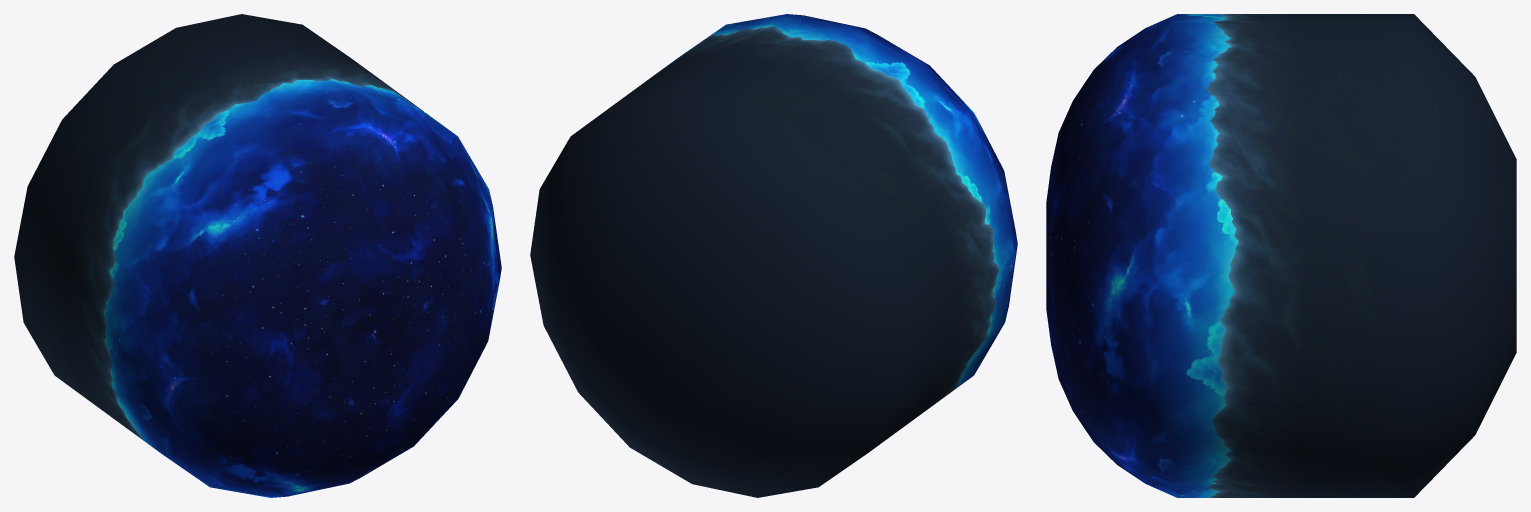
3 renders of one model, left to right at view 1: azimuth 30°, elevation 25°; view 2: azimuth 150°, elevation 25°; view 3: azimuth 270°, elevation 25°, orthographic. The views are drawn at different scales.
Visible parts, largest first — view 1: side01; view 2: side01; view 3: side01.
Boxes of the visible parts, x1,y1,x2,y2 form: side01: (14, 14, 501, 497); side01: (530, 14, 1017, 497); side01: (1046, 14, 1516, 497).
Size of the model in its own units: 4511 by 4467 by 4379.
